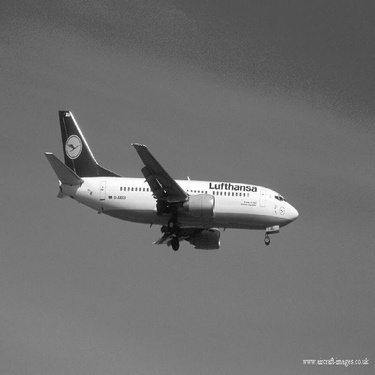airplane: (40, 104, 300, 254)
